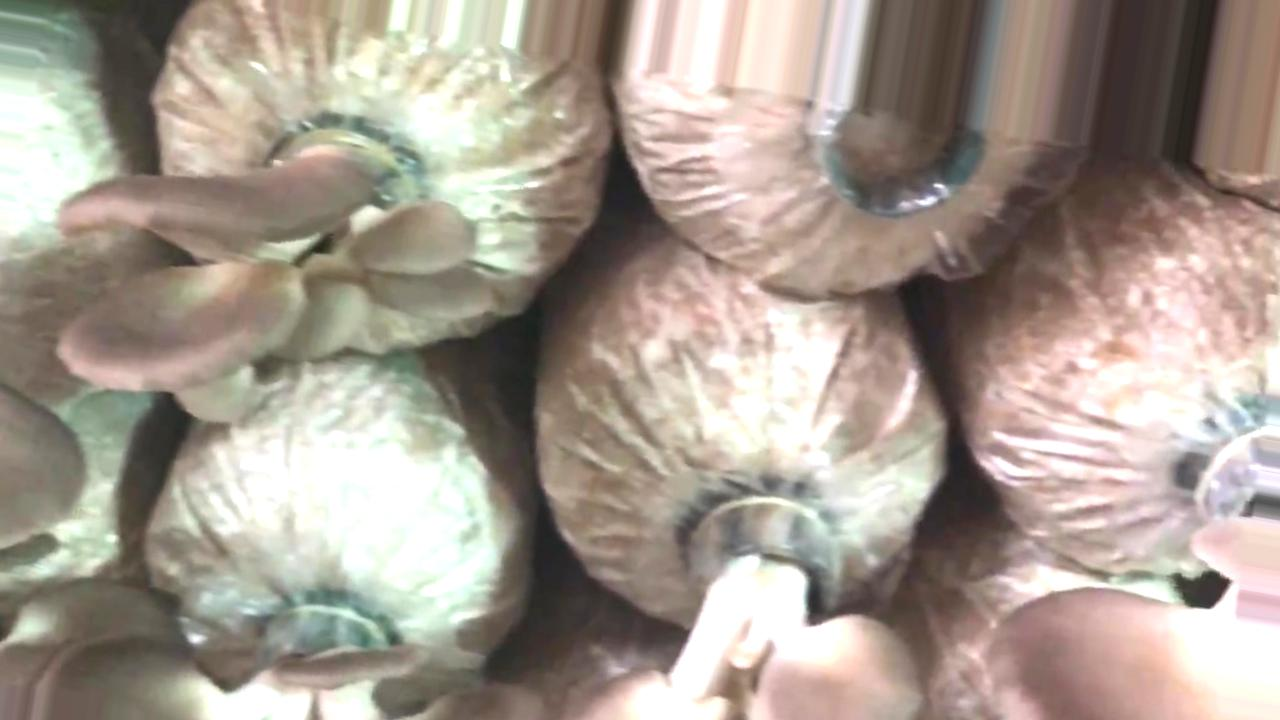nam: (56, 117, 498, 417), (589, 477, 932, 720), (992, 482, 1277, 720), (36, 600, 435, 720)
